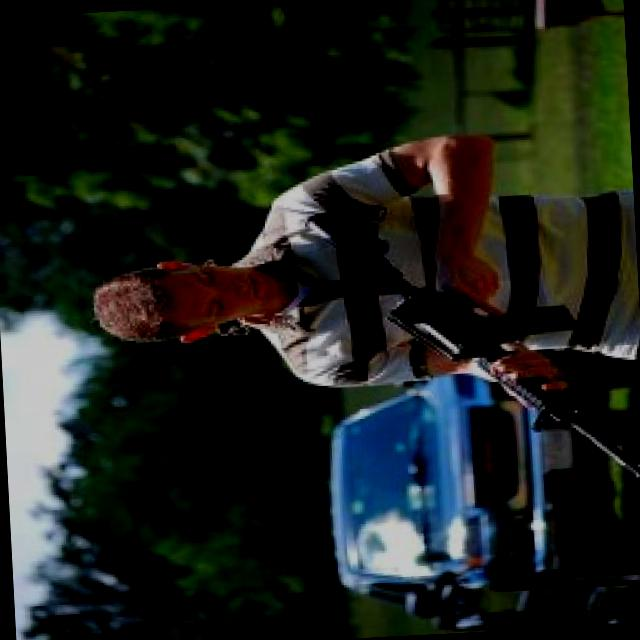long weapon: (309, 186, 639, 519)
